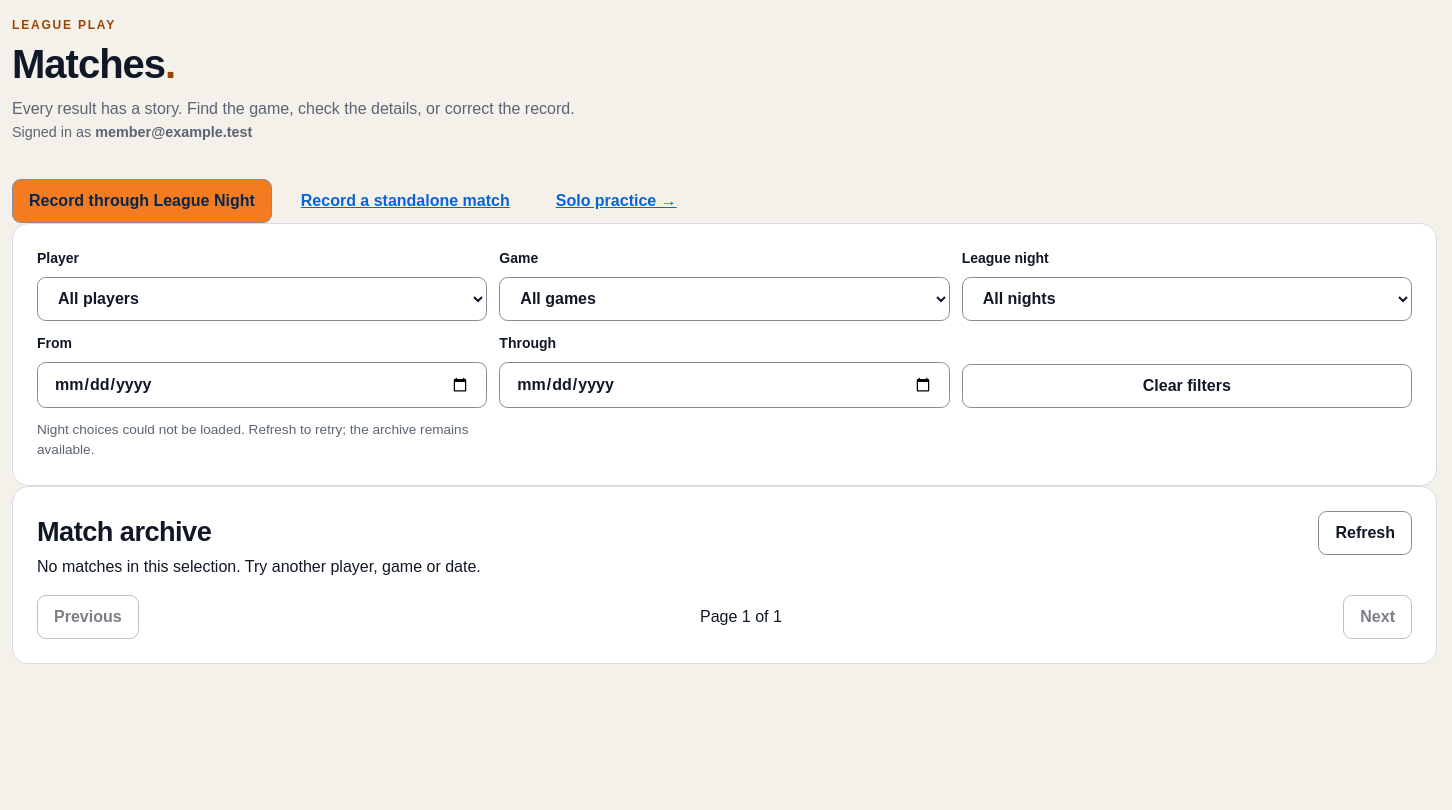
Test: retries failed night choices when the archive is refreshed
The image size is (1452, 810).
Expected: the text "Night choices could not be loaded" is shown, [37, 422, 468, 457]
Click the button "Refresh" at (1365, 533), box [1318, 511, 1412, 555]
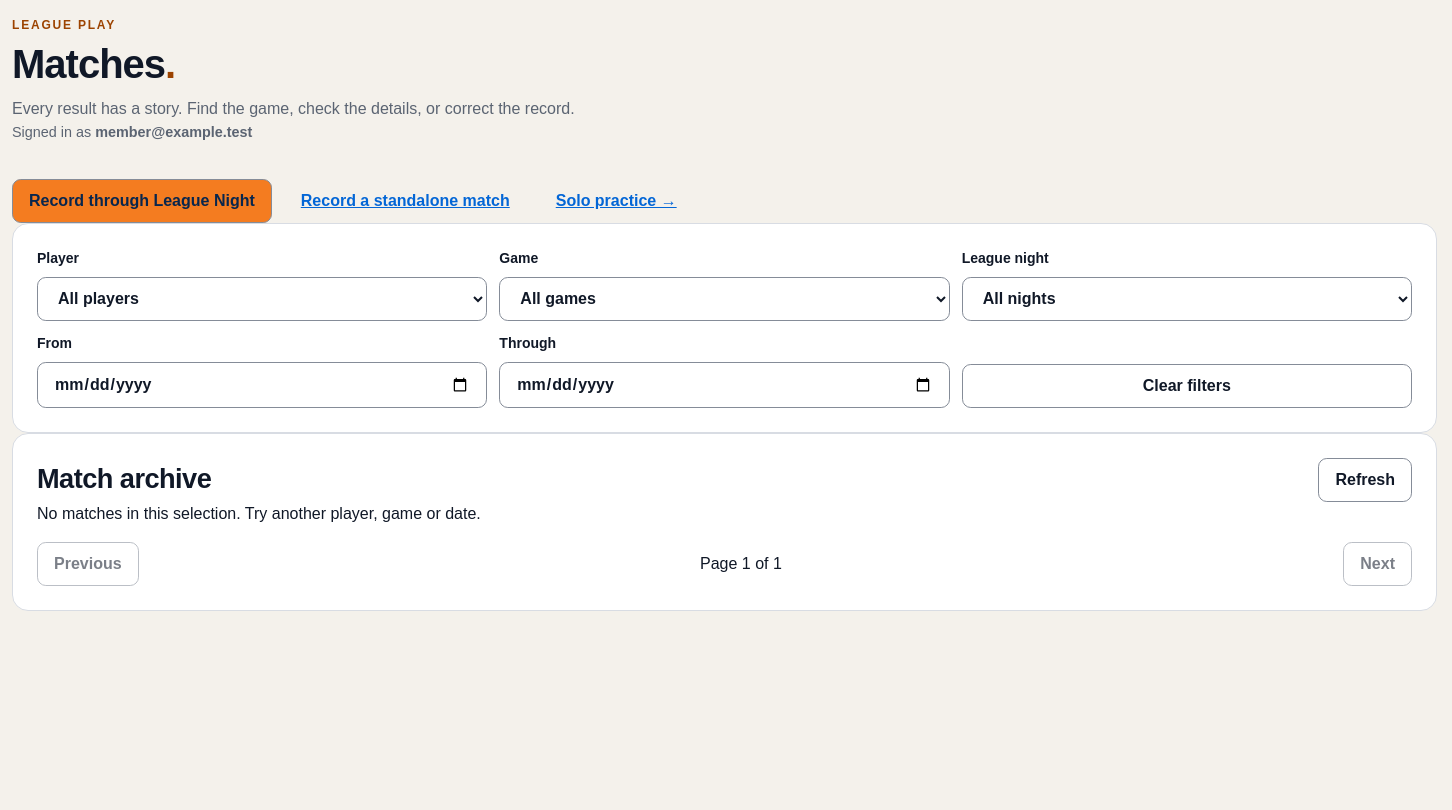
Expected: the text "Night choices could not be loaded" is gone
